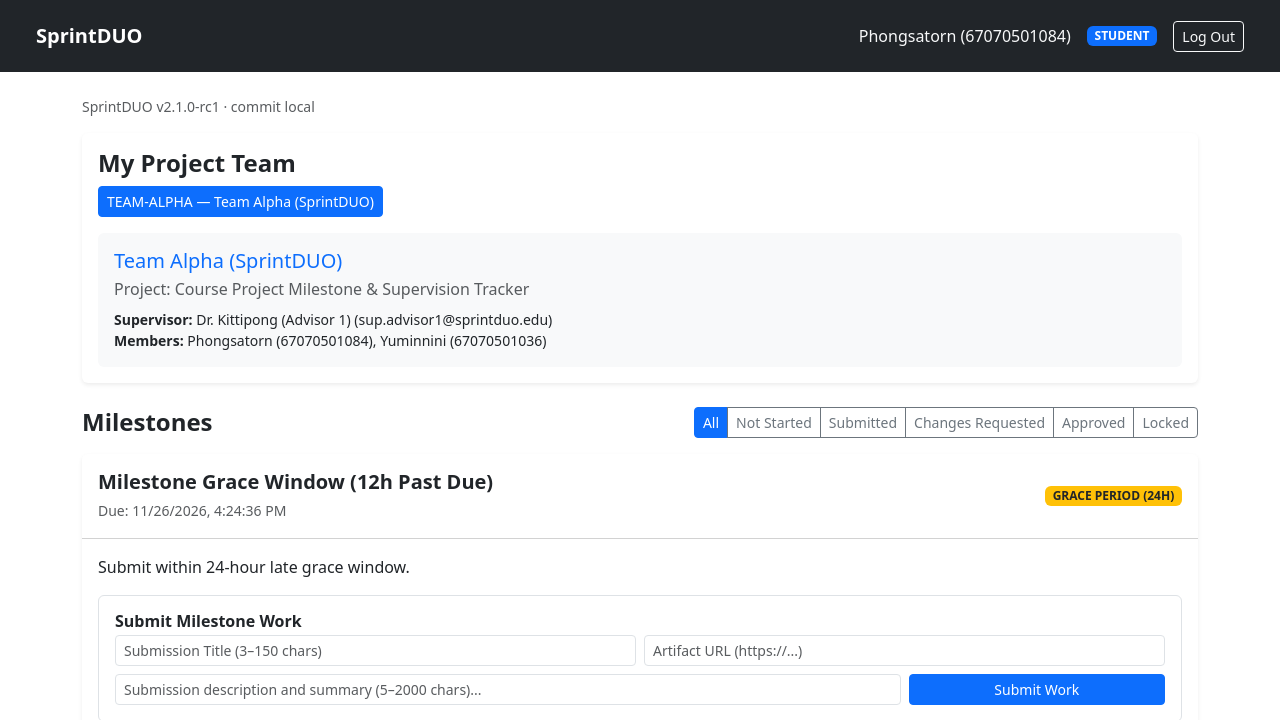
Test: SprintDUO Client UI — TEST-03 & TEST-04 Student Submission & Persisted View › TEST-07 (Lab 7 BR-03 v1.1.0): displays GRACE PERIOD (24H) milestone badge and LATE badge on late submission
Check: the text "GRACE PERIOD (24H)" is shown, box [1045,486,1182,506]
Type "Late Grace Submission" into the field with test id "submission-title-103". click: (376, 650)
box: [115,635,636,666]
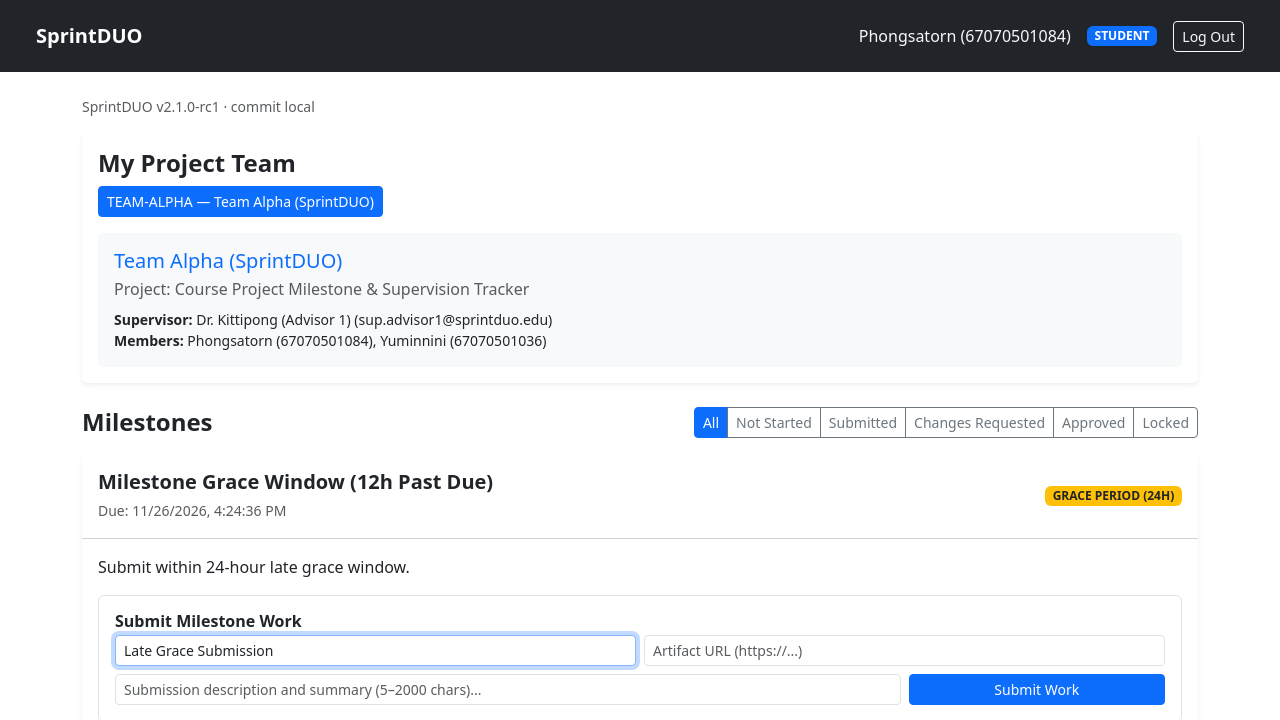
Type "https://github.com/JinggXd/course-project-sprintDUO" into the field with test id "submission-url-103". click: (904, 650)
box: [644,635,1165,666]
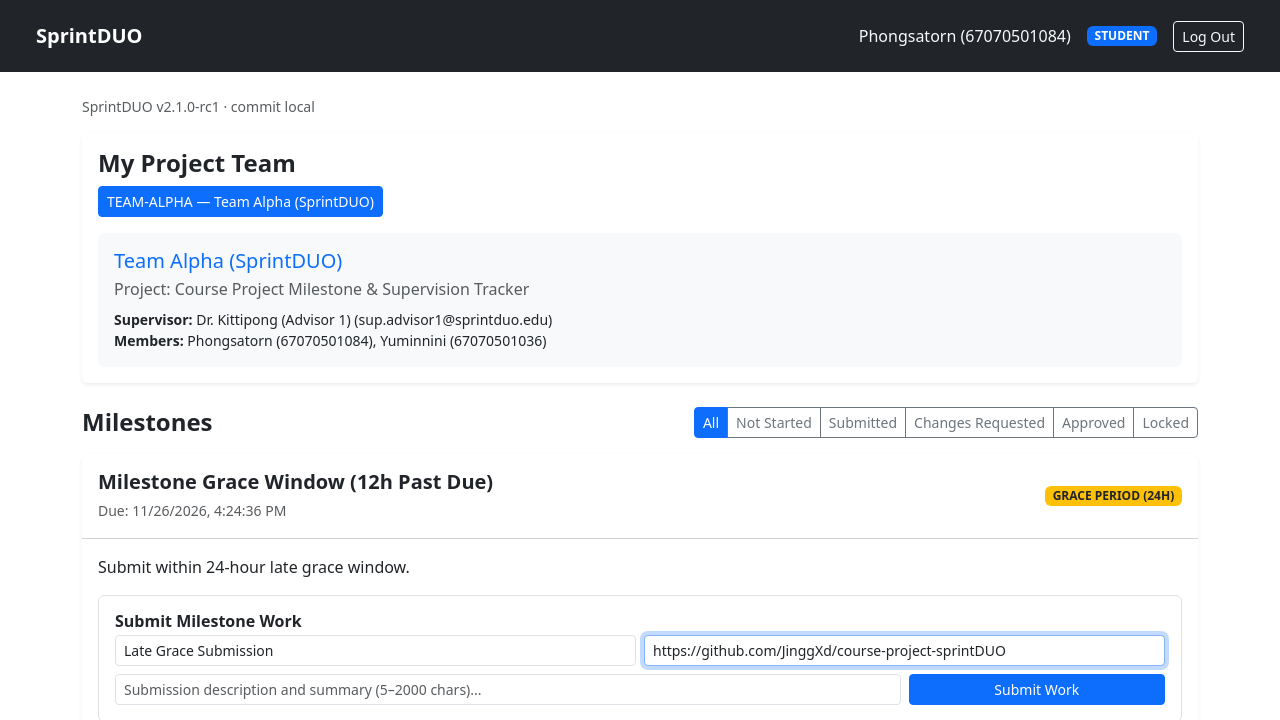
Type "Submitted 12 hours into the 24-hour grace period." into the field with test id "submission-desc-103". click: (508, 690)
box: [115,674,900,705]
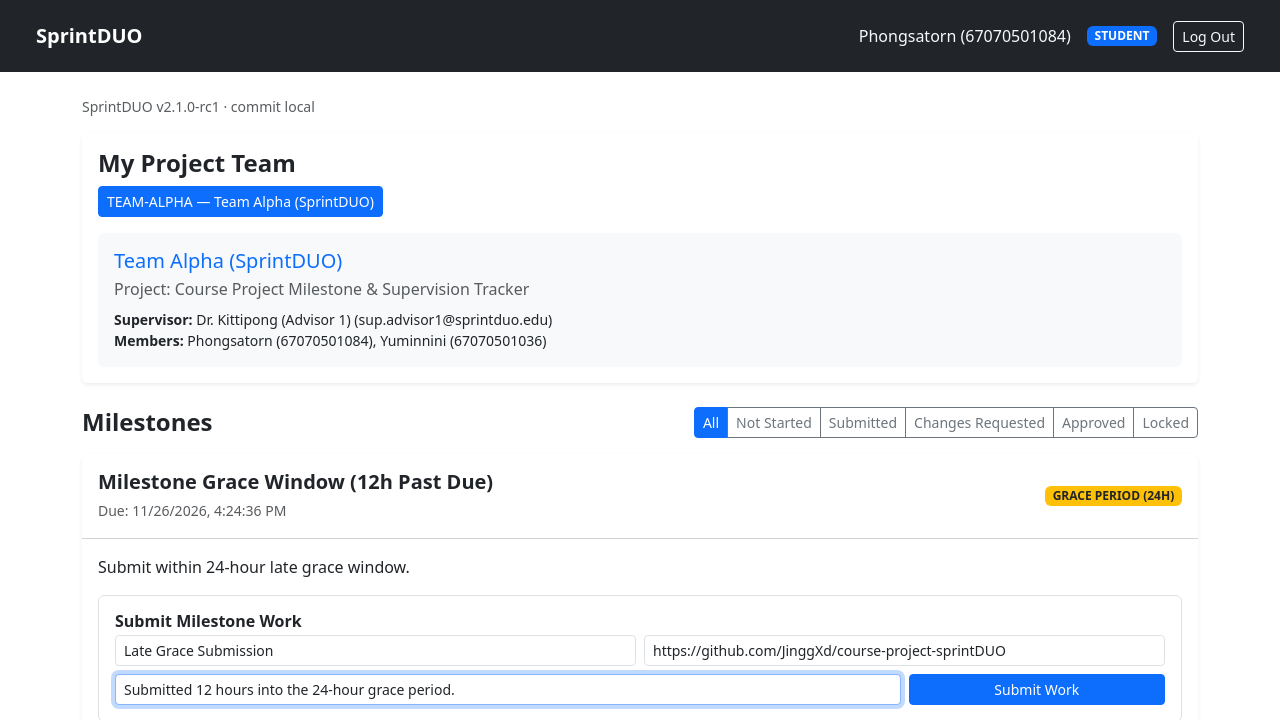
Click the button with test id "submission-submit-103". click: (1037, 690)
box: [908,674,1165,705]
(page scrolled)
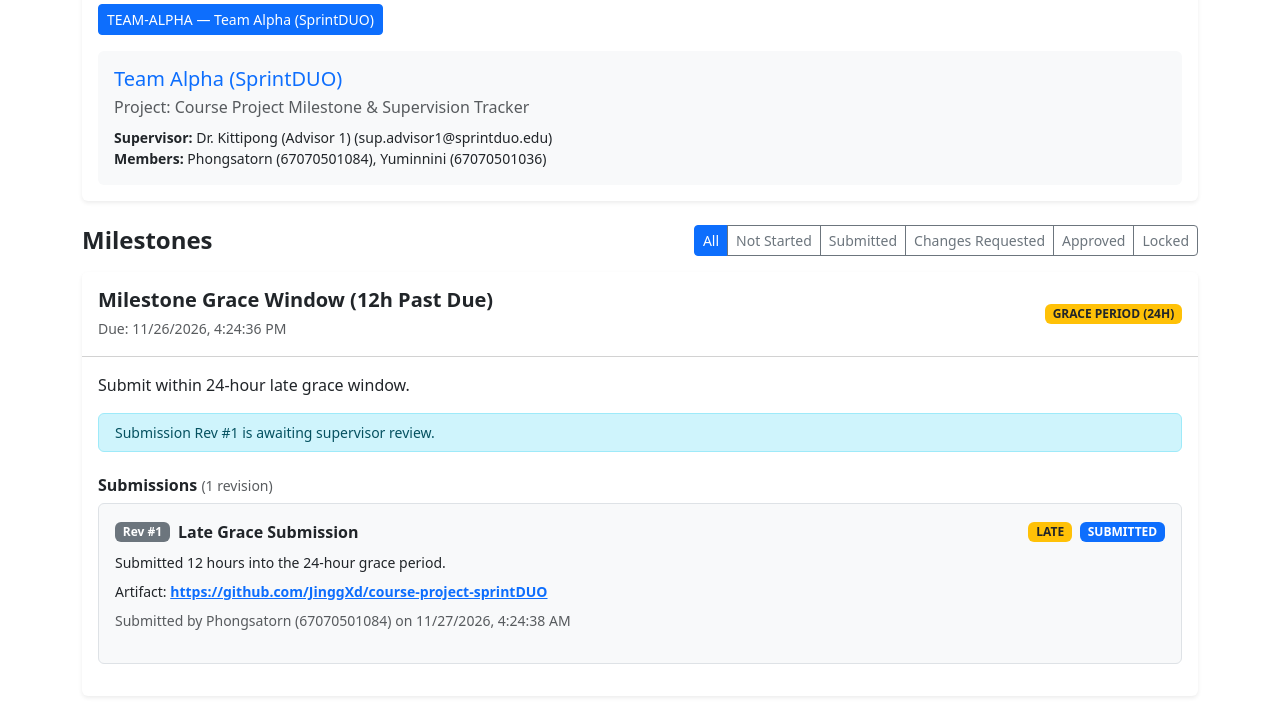
Check: the text "Late Grace Submission" is shown, box [178,520,358,544]
Check: the text with test id "submission-late-badge-601" reads "LATE", box [1036,523,1064,540]
